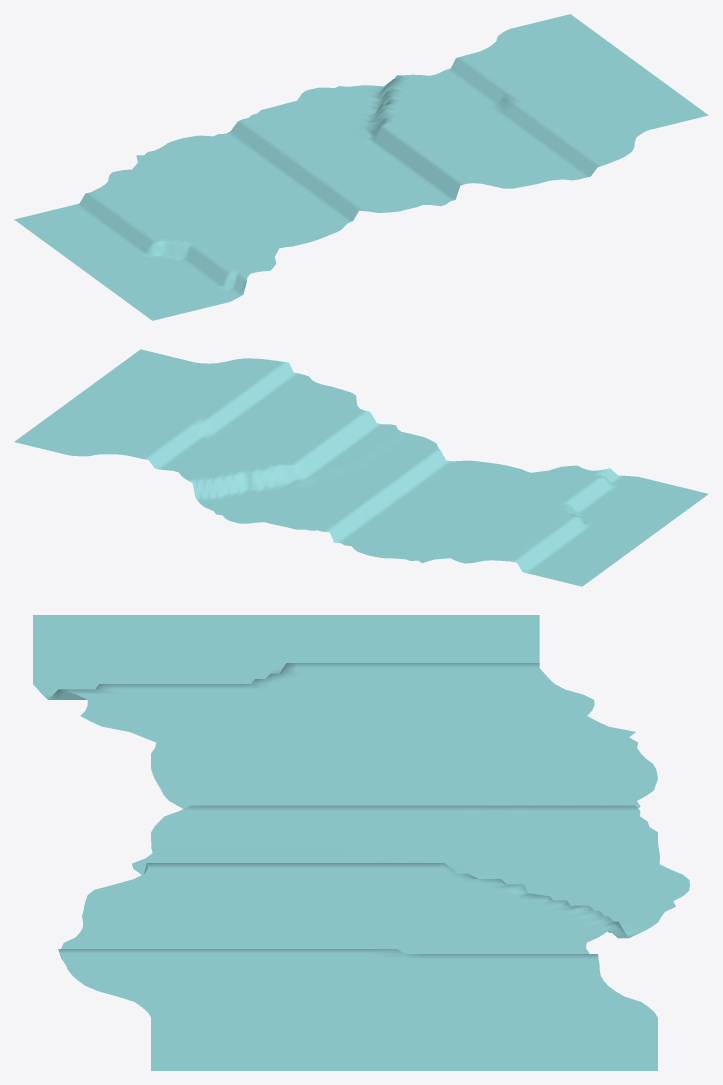
The model's file is RiverModel6.FBX.
3 renders of one model, top to bottom at view 1: azimuth 30°, elevation 25°; view 2: azimuth 150°, elevation 25°; view 3: azimuth 270°, elevation 25°, orthographic. The views are drawn at different scales.
Visible parts, largest first — view 1: WaterModel5; view 2: WaterModel5; view 3: WaterModel5.
Part boxes in pixels (x1,y1,x2,y2): WaterModel5: [14, 14, 708, 320]; WaterModel5: [14, 349, 708, 586]; WaterModel5: [33, 615, 689, 1070].
Size of the model in its own units: 1181 by 73.19 by 624.
